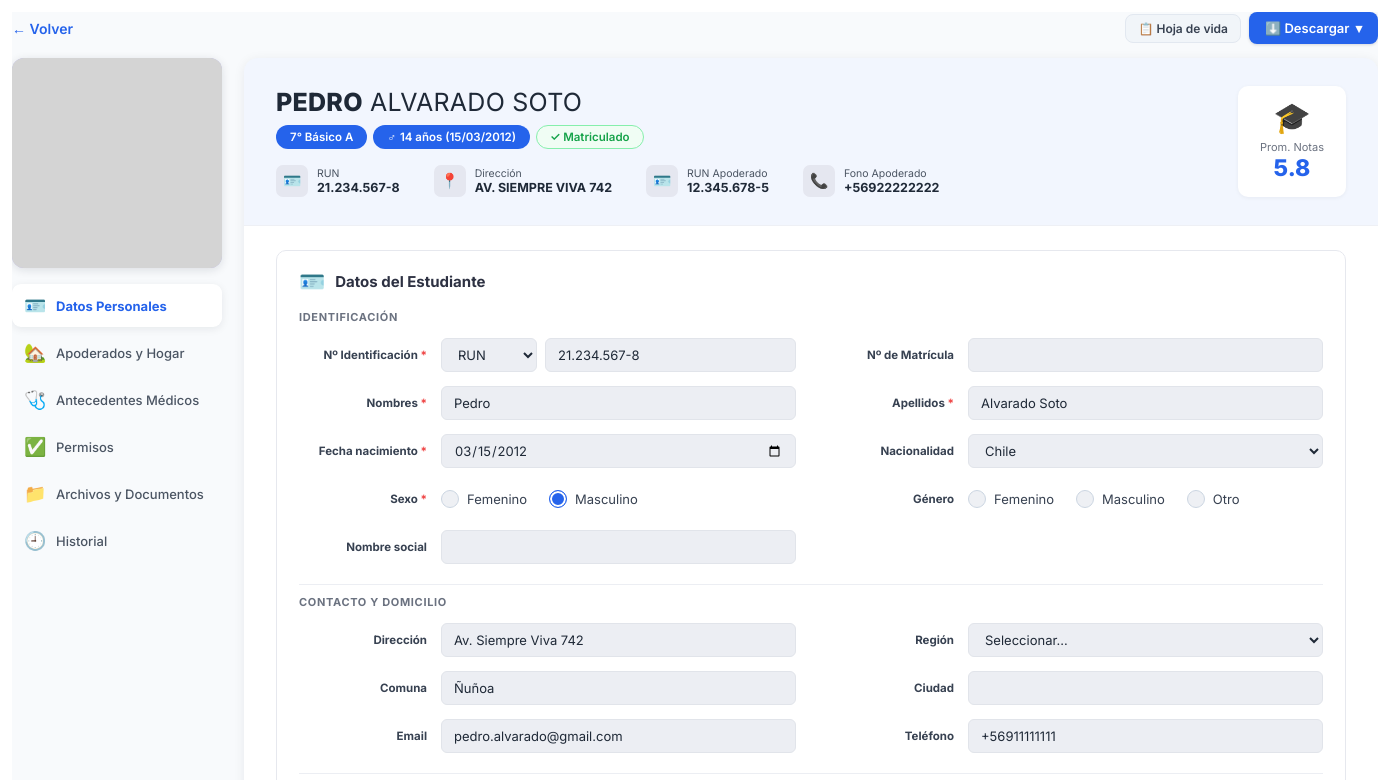
Test case: Permisos muestra autorizaciones y control de subida de firma
The image size is (1390, 780).
Check: the heading "Pedro Alvarado Soto" is shown, box left=276, top=87, right=582, bottom=117
What coordinates should you click on to do the following:
click the button "✅ Permisos"
I would click on:
 (117, 446)
Its box is left=12, top=425, right=222, bottom=468.
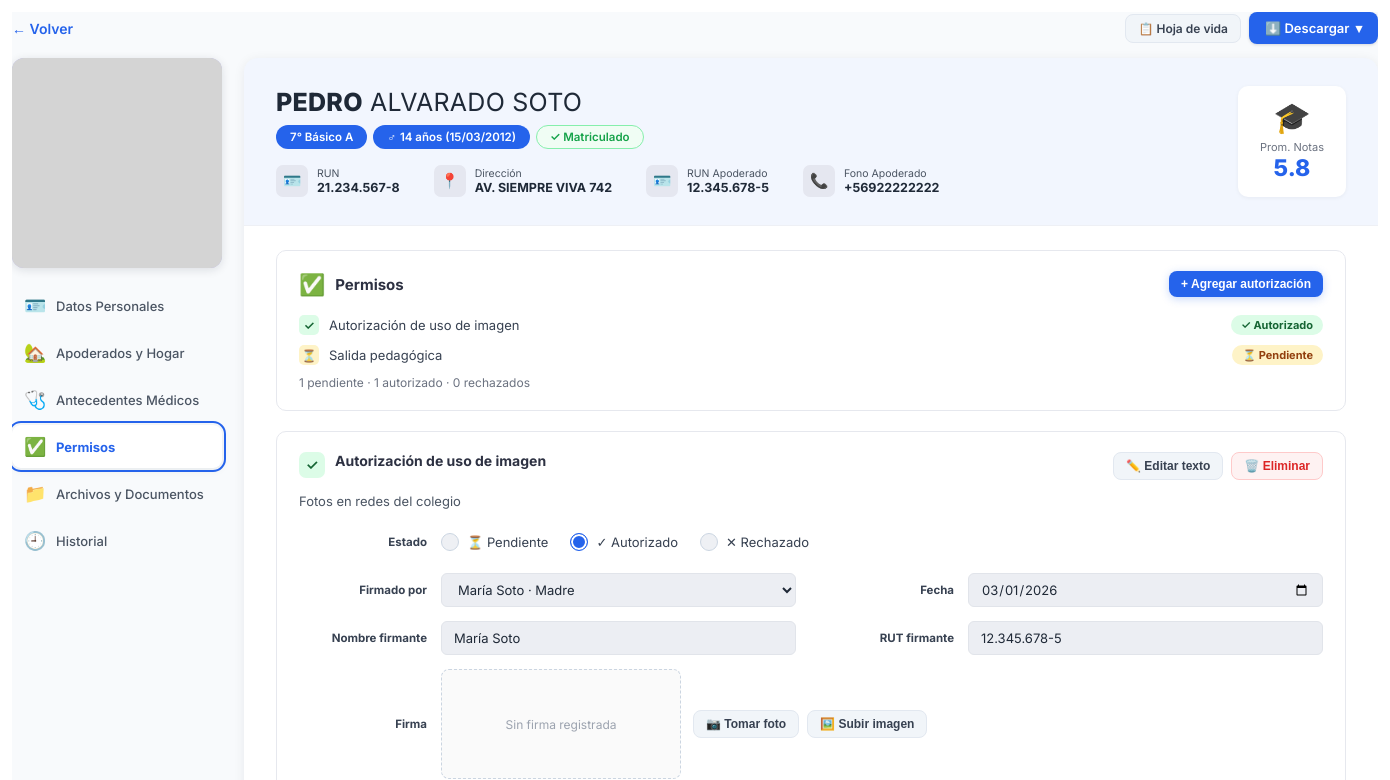
Check: the 1st text "Autorización de uso de imagen" is shown, box left=329, top=317, right=519, bottom=333
Check: the text "Salida pedagógica" is shown, box left=329, top=347, right=442, bottom=363
Check: the button "+ Agregar autorización" is shown, box left=1169, top=271, right=1323, bottom=297
